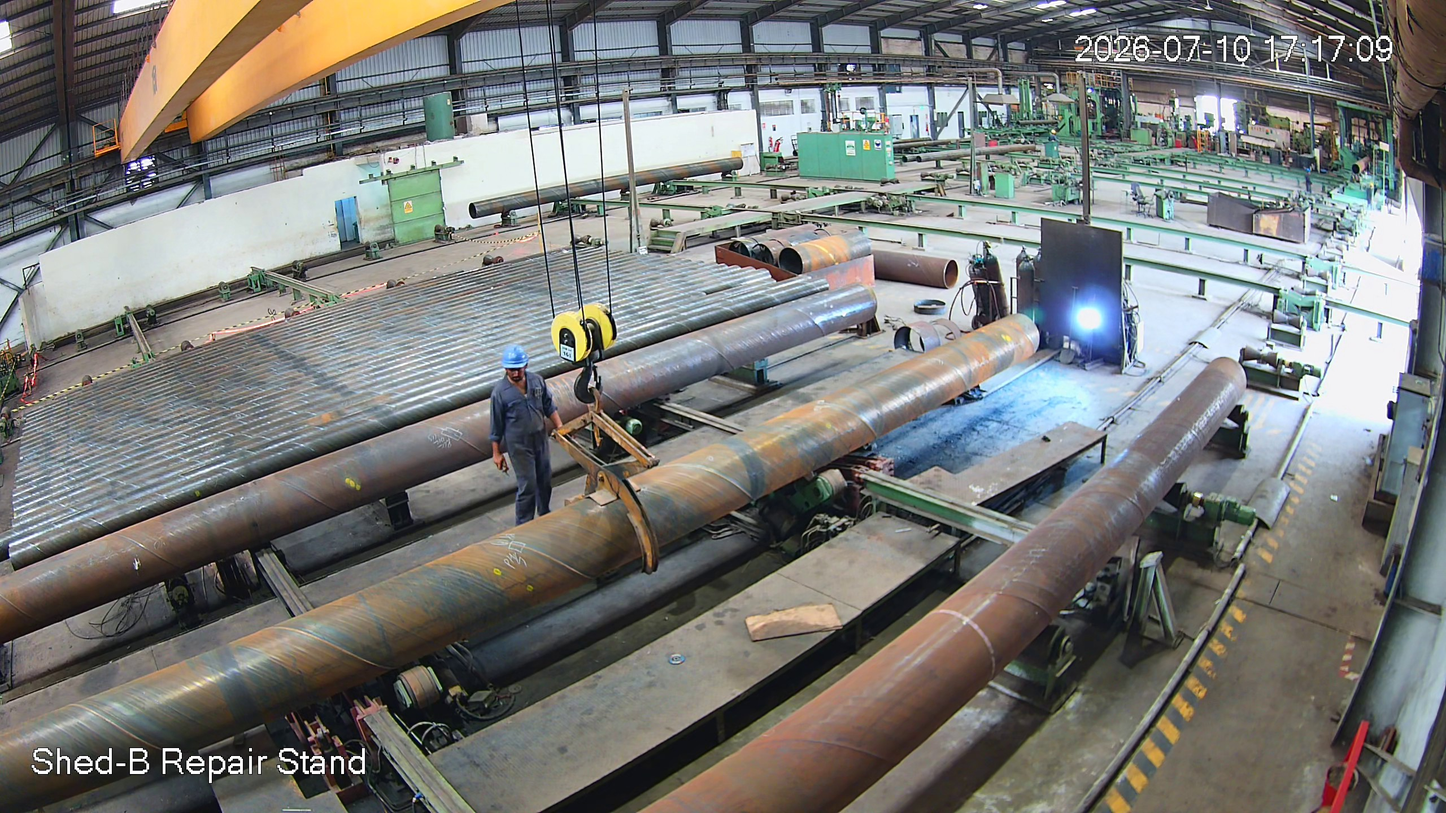Helmet: (496, 344, 543, 394)
Person: (488, 345, 554, 528)
